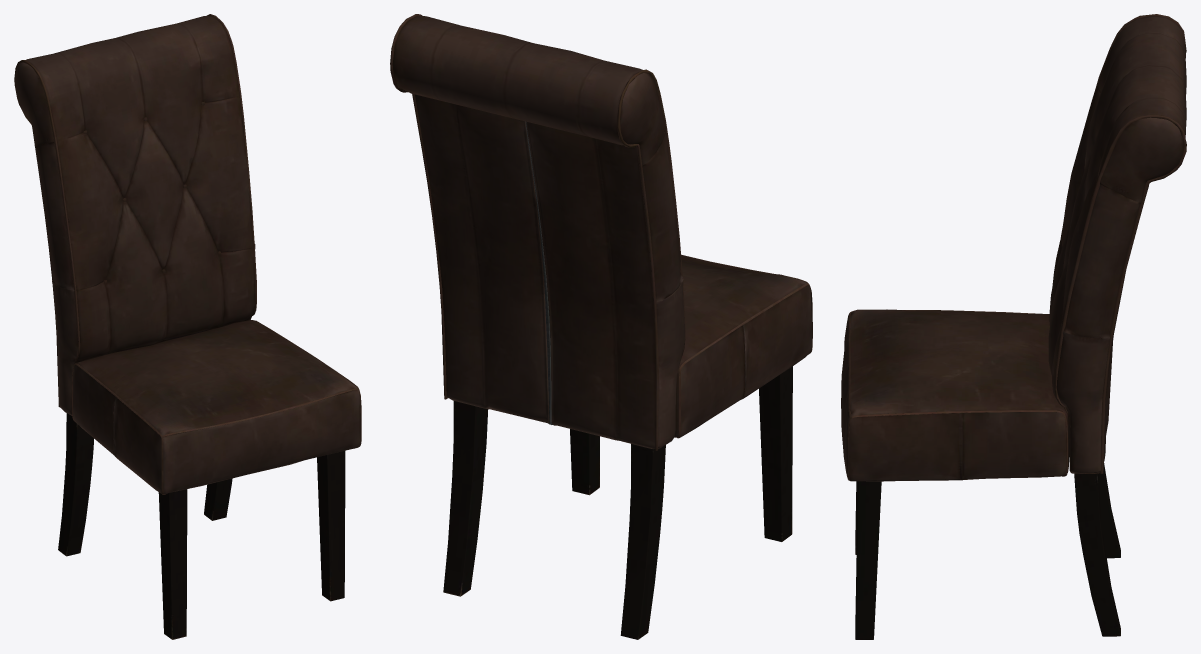
3 views of the same model, side by side, from view 1: azimuth 30°, elevation 25°; view 2: azimuth 150°, elevation 25°; view 3: azimuth 270°, elevation 25° (orthographic). The views are drawn at different scales.
Parts seen in each view (by area): view 1: dining_chair_02; view 2: dining_chair_02; view 3: dining_chair_02.
Boxes of the visible parts, x1=… form: dining_chair_02: x1=14, y1=14, x2=361, y2=639; dining_chair_02: x1=390, y1=14, x2=812, y2=639; dining_chair_02: x1=841, y1=14, x2=1186, y2=639.
Size of the model in its own units: 0.4332 by 0.9733 by 0.5763.
1 material, 1 textured.
